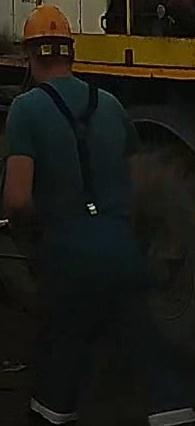helmet: (19, 3, 73, 44)
